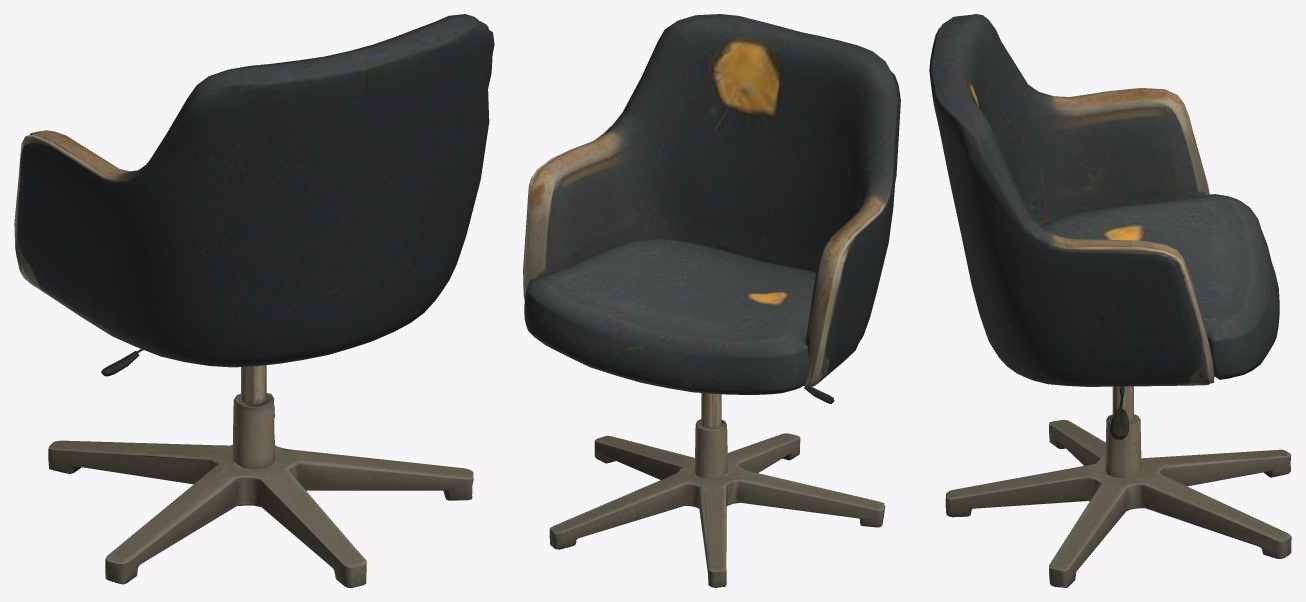
File: office-office-chair.glb
3 views of the same model, side by side, from view 1: azimuth 30°, elevation 25°; view 2: azimuth 150°, elevation 25°; view 3: azimuth 270°, elevation 25° (orthographic). The views are drawn at different scales.
Parts seen in each view (by area): view 1: office-chair; view 2: office-chair; view 3: office-chair.
Part boxes in pixels (<box>): office-chair: <box>14,14,494,587</box>; office-chair: <box>523,14,900,587</box>; office-chair: <box>929,14,1291,587</box>.
Size of the model in its own units: 0.783 by 1 by 0.726.
1 material, 1 textured.
